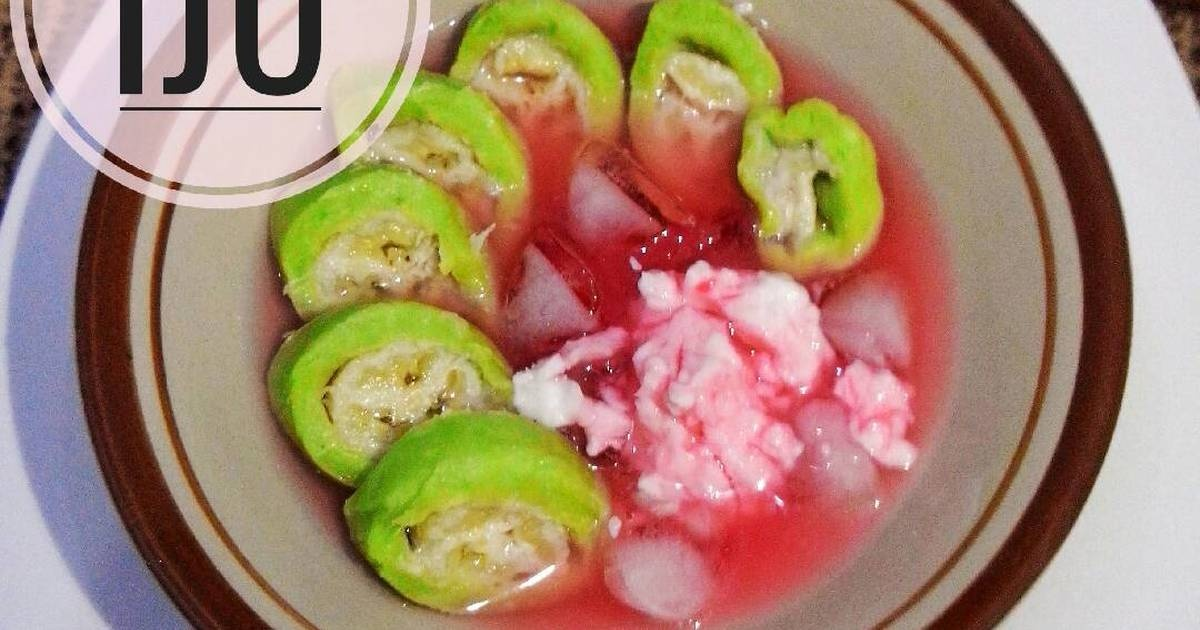pisang_ijo: (351, 402, 593, 614)
